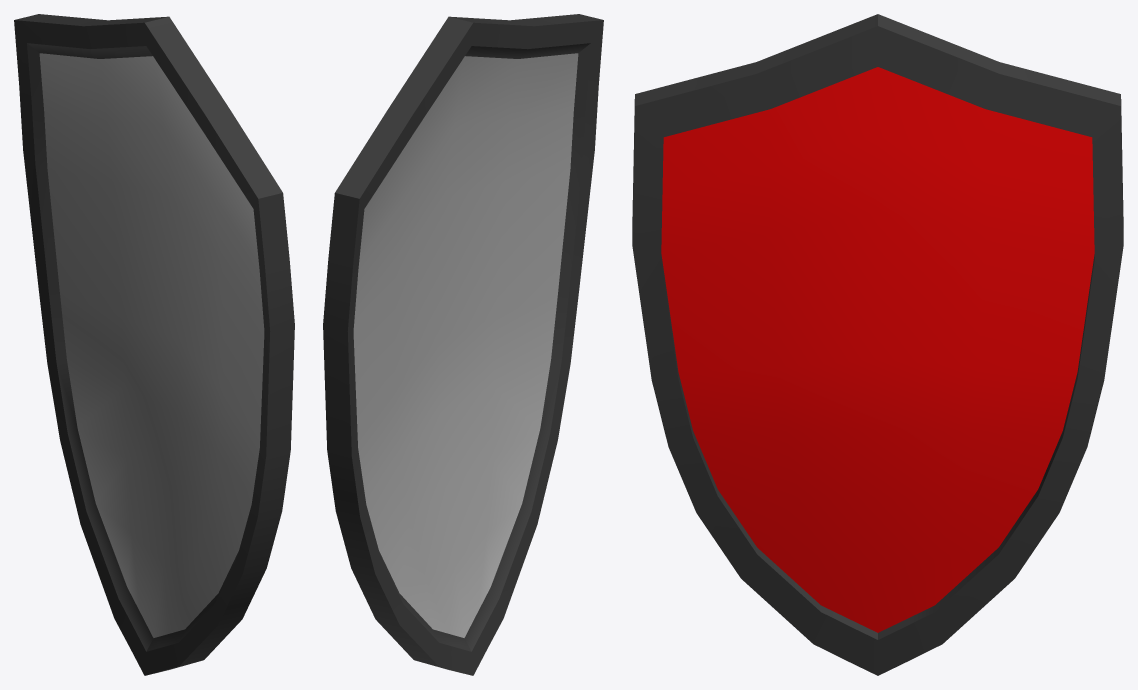
Rendered from Shield.fbx.
The picture shows the model from 3 angles, left to right: view 1: azimuth 30°, elevation 25°; view 2: azimuth 150°, elevation 25°; view 3: azimuth 270°, elevation 25°; orthographic projection.
Parts seen in each view (by area): view 1: Shield; view 2: Shield; view 3: Shield.
Boxes of the visible parts, box(x1,y1,x2,y2) form: Shield: box(14, 14, 294, 675); Shield: box(323, 14, 603, 675); Shield: box(632, 14, 1123, 675).
Size of the model in its own units: 0.4116 by 5.18 by 3.55.
